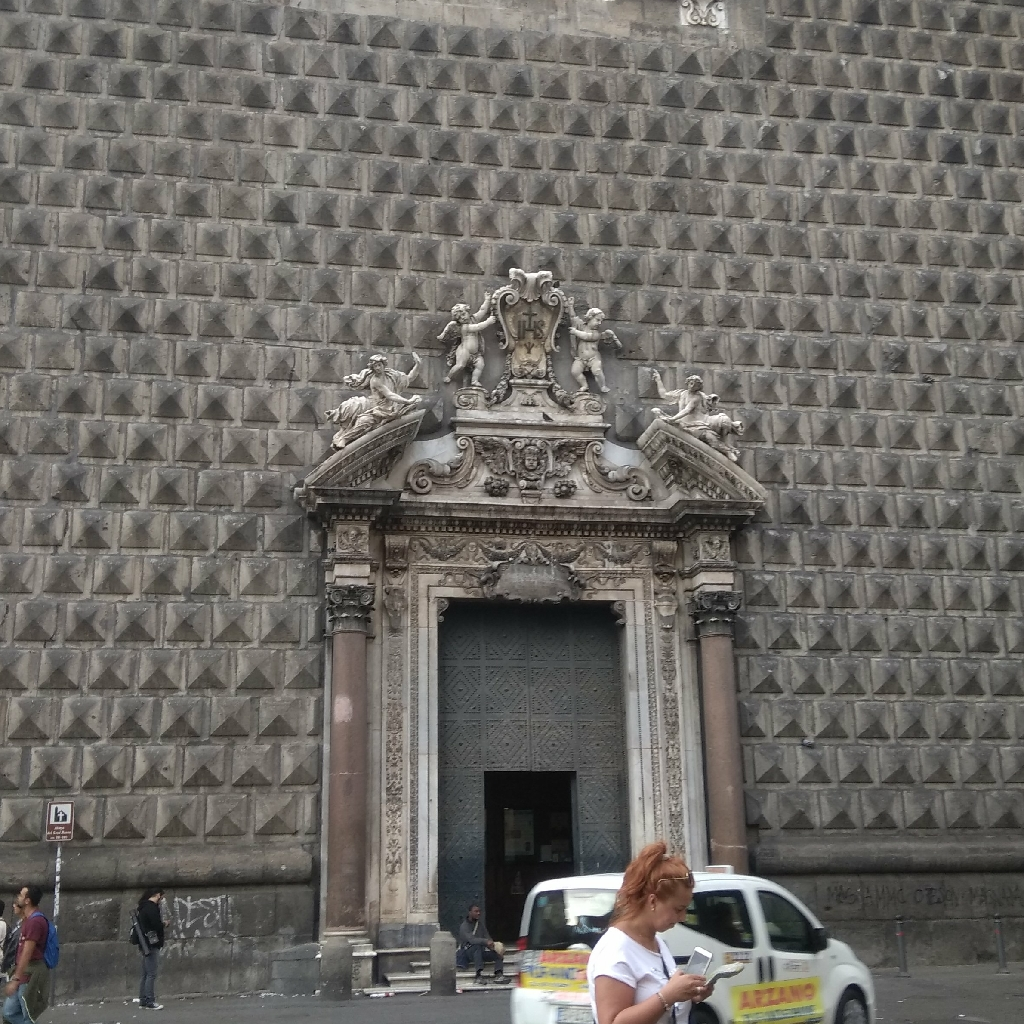fronton-partido: (298, 405, 773, 521)
vano-adintelado: (402, 562, 663, 952)
